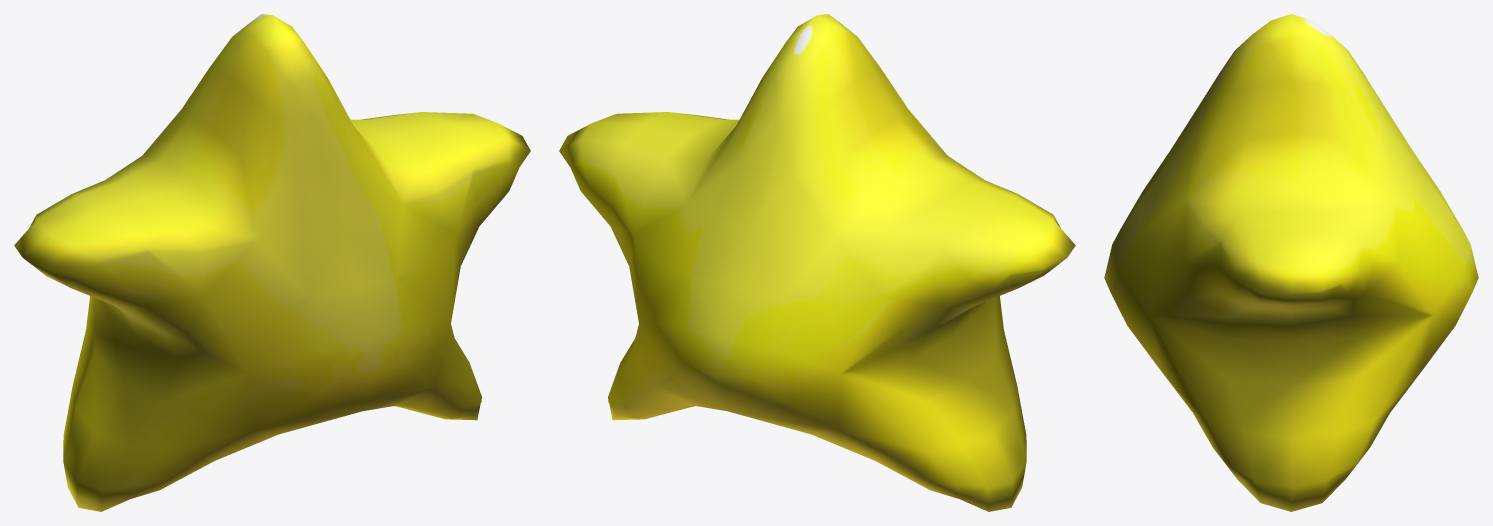
Rendered from Star.FBX.
3 views of the same model, side by side, from view 1: azimuth 30°, elevation 25°; view 2: azimuth 150°, elevation 25°; view 3: azimuth 270°, elevation 25° (orthographic). The views are drawn at different scales.
Parts seen in each view (by area): view 1: Plane001; view 2: Plane001; view 3: Plane001.
Part boxes in pixels (bbox=[...]): Plane001: bbox=[14, 14, 530, 511]; Plane001: bbox=[559, 14, 1075, 511]; Plane001: bbox=[1104, 14, 1478, 511].
Size of the model in its own units: 487 by 343 by 415.
1 material, 1 textured.
